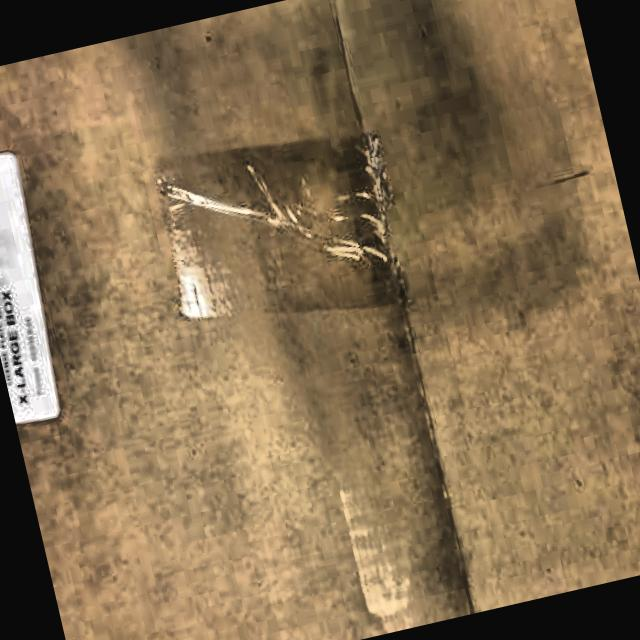cardboard: (0, 0, 577, 592)
